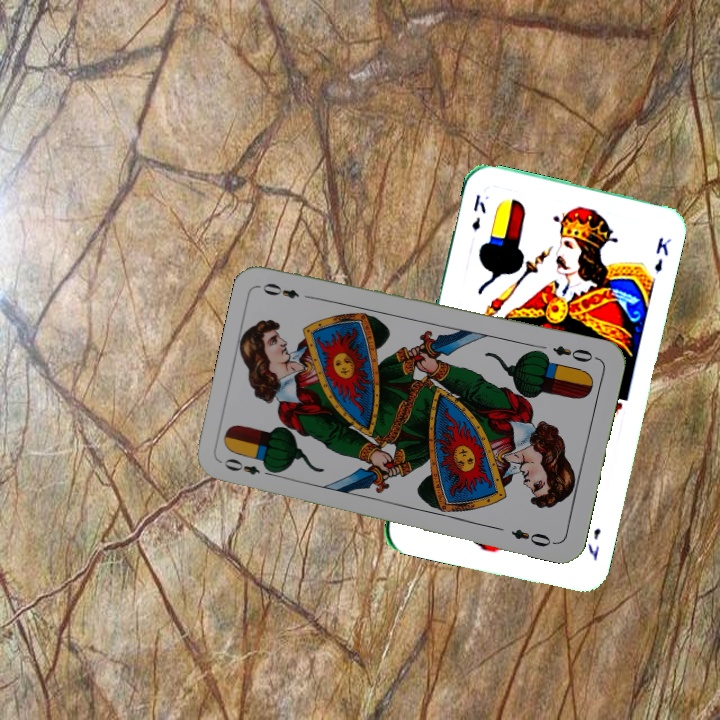EK: (467, 190, 489, 234), (583, 524, 604, 563)
EO: (220, 454, 277, 479), (548, 341, 600, 365)
